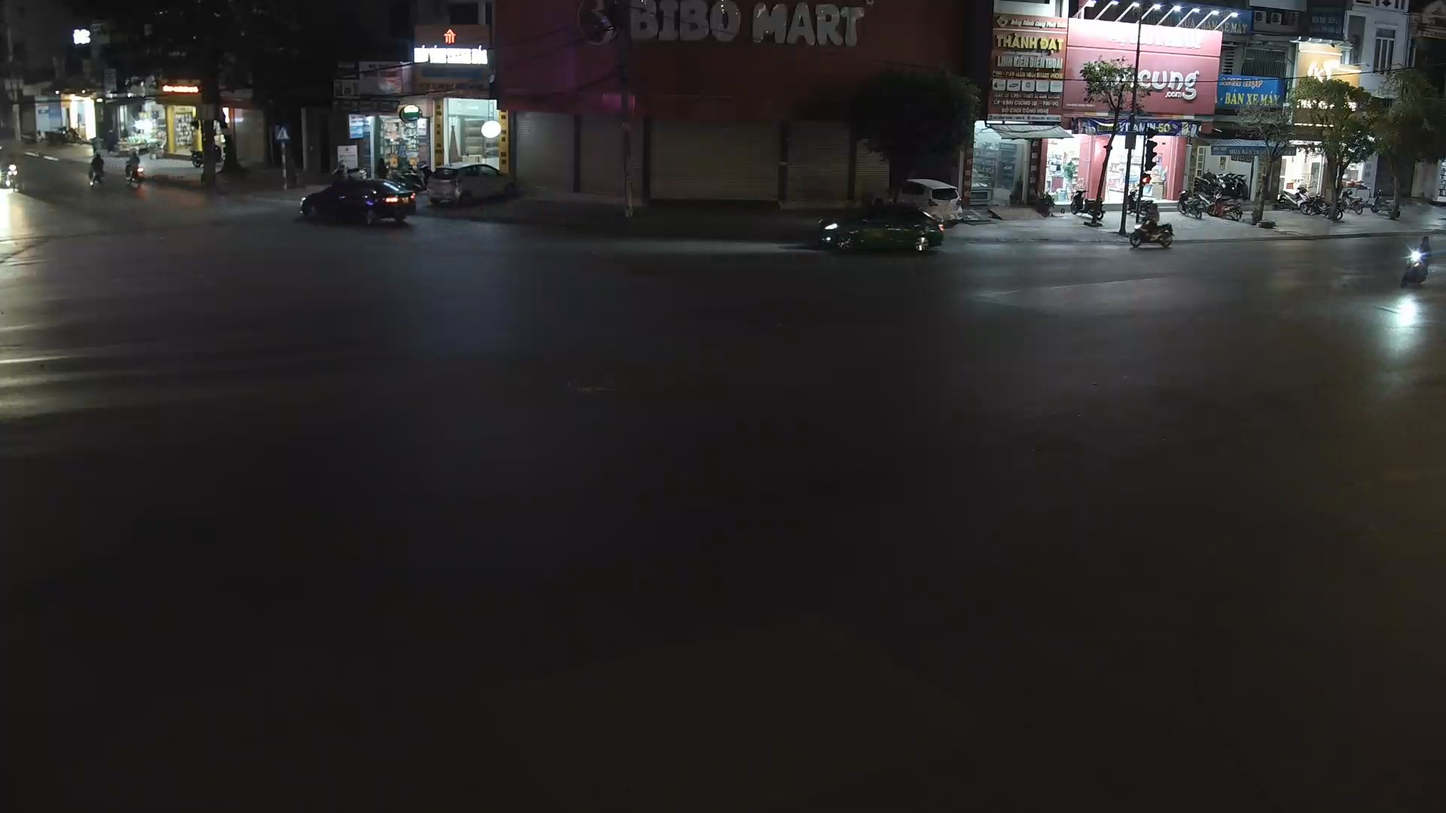car: (817, 198, 946, 255), (296, 175, 419, 230)
